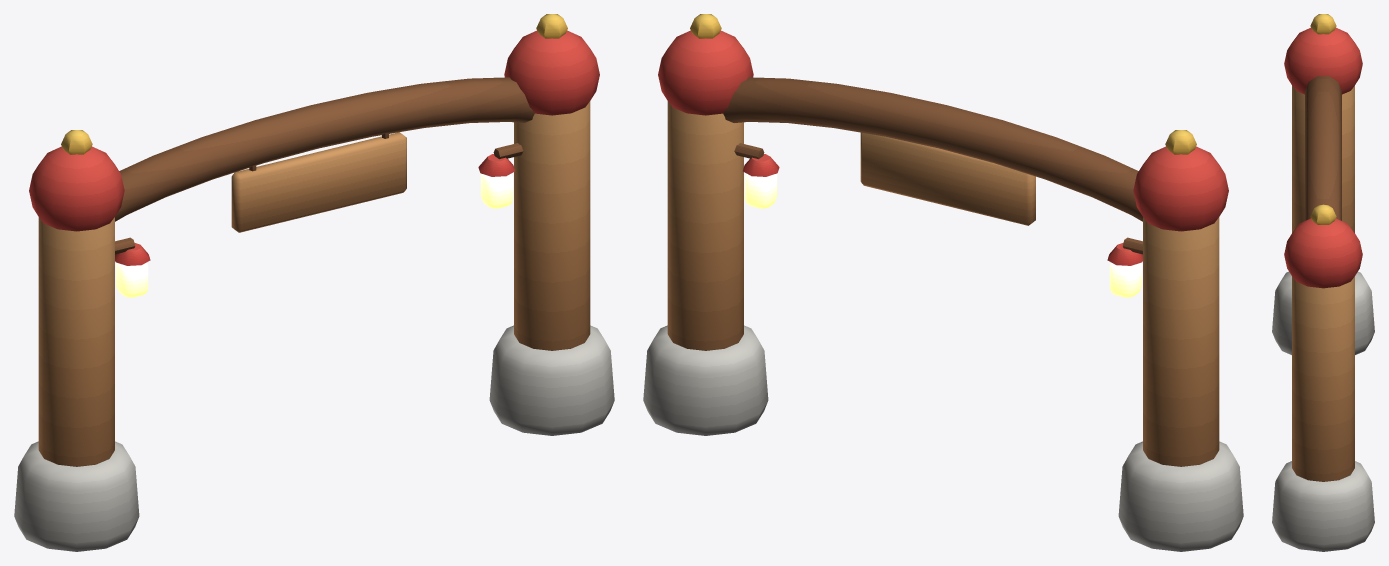
The model's file is gate.glb.
The picture shows the model from 3 angles, left to right: view 1: azimuth 30°, elevation 25°; view 2: azimuth 150°, elevation 25°; view 3: azimuth 270°, elevation 25°; orthographic projection. The views are drawn at different scales.
Parts seen in each view (by area): view 1: gate; view 2: gate; view 3: gate.
Boxes of the visible parts, left/top/right/bottom form: gate: left=14, top=14, right=614, bottom=551; gate: left=643, top=14, right=1243, bottom=551; gate: left=1272, top=14, right=1374, bottom=551.
Bounding box in the file's own units: 2.11 × 1.39 × 0.3923.
1 material, 1 textured.
